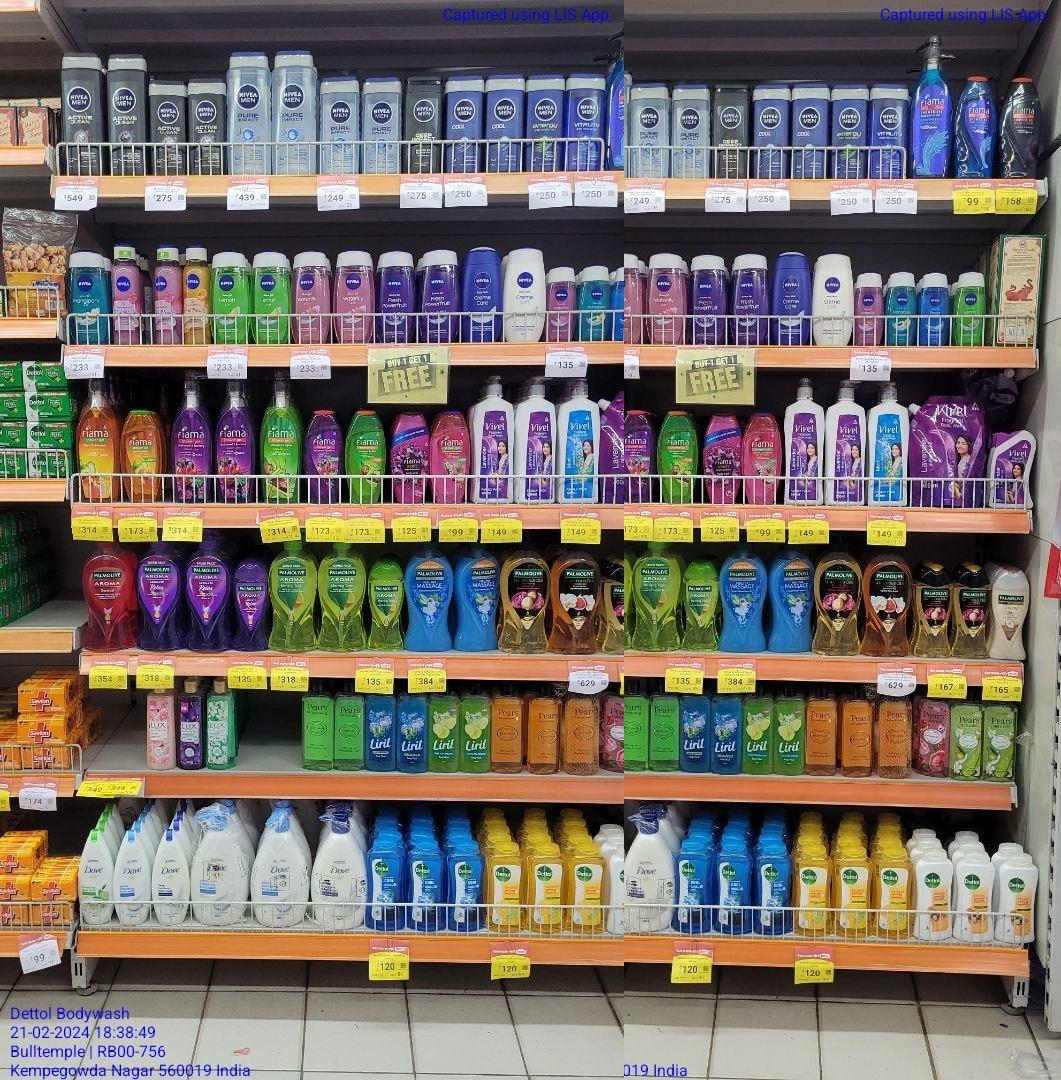Dettol_Bodywash_Cool: (674, 837, 715, 935), (754, 844, 793, 939), (367, 833, 403, 933), (408, 842, 444, 932), (717, 839, 749, 936), (451, 844, 485, 932)
Dettol_Bodywash_Refresh: (834, 849, 873, 939), (876, 849, 913, 942), (796, 852, 834, 940), (489, 845, 522, 936), (530, 846, 564, 934), (573, 844, 604, 933)
Dettol_Nourish_Body_Wash_250ML: (997, 856, 1036, 943), (918, 850, 954, 943), (958, 851, 994, 942)
Dove_Deep_Moisture_Body_Wash_250ML: (152, 830, 190, 926)
Dove_Gentle_Exfoliating_Body_Wash_250ML: (114, 830, 150, 926)
Dove_Refreshing_Body_Wash_250ML: (79, 830, 113, 924)
Fiama_Shower_Gel_Lemongrass_and_Jojoba_250ML: (347, 408, 385, 503), (659, 410, 697, 504)
Fiama_Shower_Gel_Patchouli_and_Macadamia_250ML: (742, 413, 782, 506), (429, 412, 468, 505)
Fiama_Shower_Gel_Peach_and_Avocado_250ML: (121, 408, 161, 504)
Liril_Cooling_Mint_Body_Wash_250ML: (398, 682, 427, 773), (711, 691, 742, 774), (366, 692, 395, 772), (681, 694, 709, 771)
Liril_Lime_and_Tea_Tree_Oil_Body_Wash_250ML: (774, 685, 806, 776), (461, 684, 491, 774), (743, 683, 772, 774), (430, 688, 460, 772)
Lux_Black_Orchid_Scent_and_Juniper_Oil_Body_Wash_245ML: (178, 679, 205, 771)
Lux_Body_Wash_Skin_Detox_Freesia_Scent_and_Alove_Vera_245ML: (207, 680, 233, 769)
Nivea_Creme_Care_Body_Wash_250ML: (464, 246, 504, 342), (774, 251, 811, 348)
Nivea_Creme_Soft_Body_Wash_250ML: (815, 250, 857, 350), (506, 245, 544, 342)
Nivea_Shower_Gel_Frangipani_and_Oil_250ML: (68, 250, 111, 346), (583, 263, 612, 341), (888, 273, 917, 347)
Nivea_Shower_Gel_Fresh_Powerfruit_250ML: (376, 252, 417, 344), (420, 249, 459, 343), (690, 251, 729, 345), (733, 253, 770, 346), (920, 271, 951, 346)
Nivea_Shower_Gel_Lemon_and_Oil_250ML: (252, 249, 292, 343), (211, 252, 250, 345), (953, 271, 987, 347)
Nivea_Shower_Gel_Waterlily_and_Oil_250ML: (335, 247, 375, 344), (645, 249, 685, 344), (292, 249, 331, 346), (547, 265, 576, 342), (857, 271, 885, 344)
Palmolive_Aroma_Morning_Tonic_Shower_Gel_250ML: (679, 561, 718, 652), (367, 561, 405, 650)
Palmolive_Aroma_Relax_250ML: (231, 561, 268, 653)
Palmolive_Coconut_Joy_Exfoliating_Body_Wash_250ML: (991, 568, 1029, 660)
Palmolive_Luminous_Oils_Invigorating_Macadamia_Oil_With_Peony_250ML: (498, 549, 549, 655), (916, 566, 952, 659), (955, 563, 988, 660)
Palmolive_Luminous_Oils_With_White_Orchid_Shower_Gel_250ML: (555, 554, 600, 654)
Pears_Naturale_Aloe_Vera_Body_Wash_250ML: (982, 699, 1018, 783), (952, 691, 980, 781)
Pears_Pure_Glycerin_and_Lemon_Flower_Extracts_Body_Wash_250ML: (302, 679, 333, 770), (650, 683, 678, 773), (336, 679, 363, 772), (625, 679, 649, 773)
